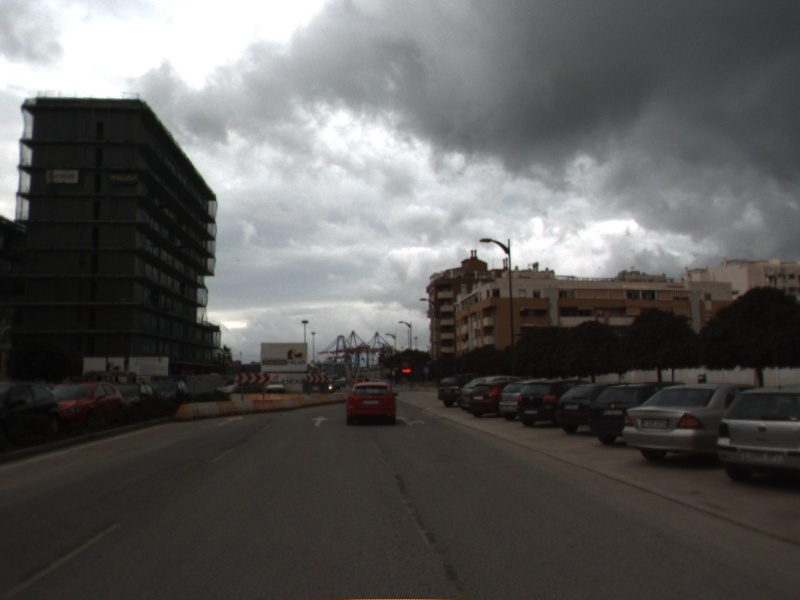STRAIGHT: (214, 414, 245, 428), (309, 415, 331, 428)
STRAIGHT_RIGHT: (396, 414, 427, 427)
